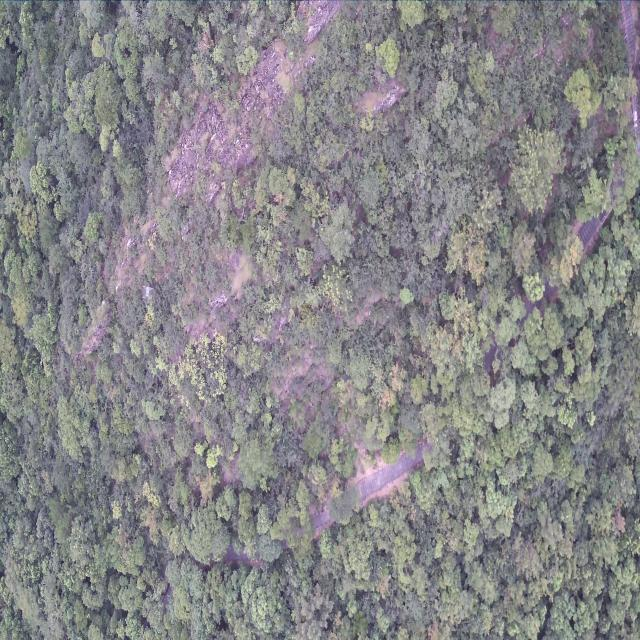drone: (141, 282, 154, 302)
